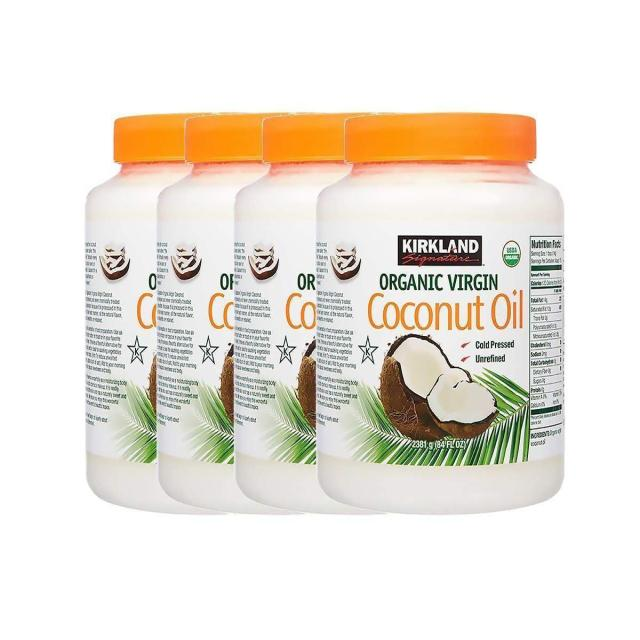cosmotic: (115, 120, 556, 501)
